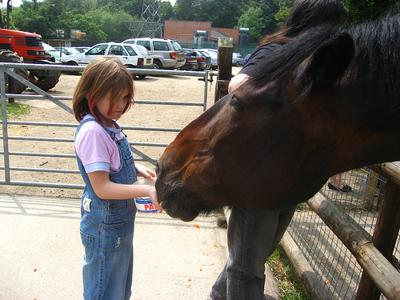person: (74, 56, 162, 300)
